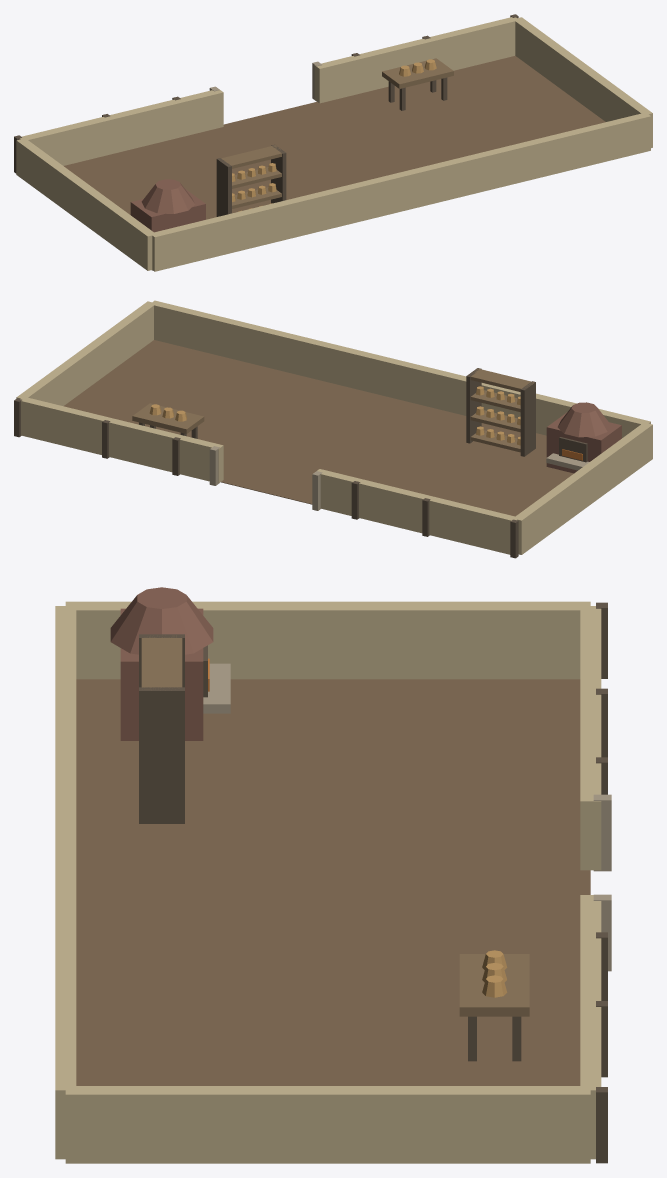
File: TownEx_Bakery_Structure.fbx
3 views of the same model, one above another, from view 1: azimuth 30°, elevation 25°; view 2: azimuth 150°, elevation 25°; view 3: azimuth 270°, elevation 25° (orthographic). The views are drawn at different scales.
Parts seen in each view (by area): view 1: TownEx_Bakery_Structure; view 2: TownEx_Bakery_Structure; view 3: TownEx_Bakery_Structure.
Boxes of the visible parts, x1,y1,x2,y2 form: TownEx_Bakery_Structure: (14, 14, 652, 271); TownEx_Bakery_Structure: (14, 300, 652, 558); TownEx_Bakery_Structure: (55, 587, 611, 1163).
Size of the model in its own units: 15.78 by 2 by 7.52.
